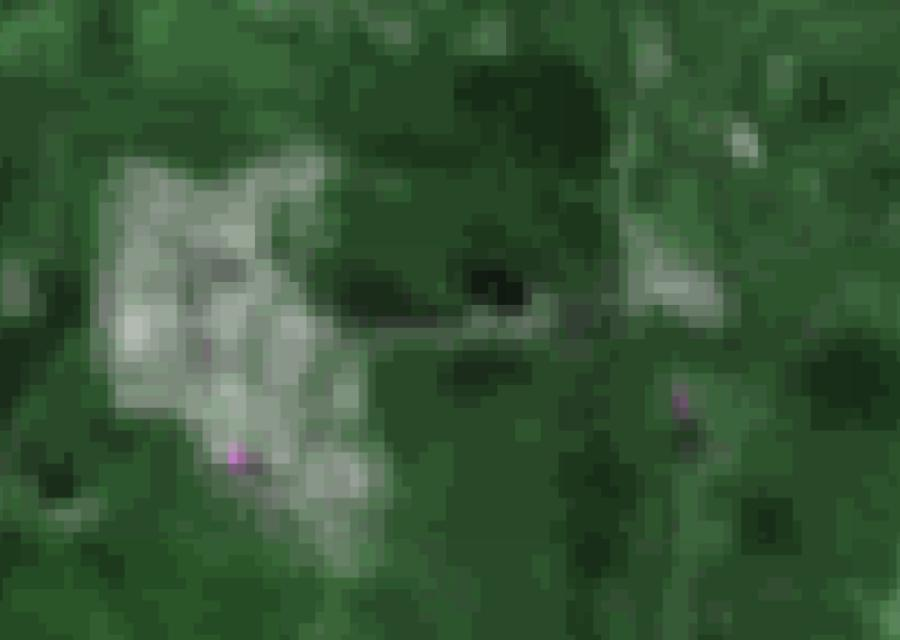Potential Lime Manufacturing Facility: (228, 443, 246, 473)
